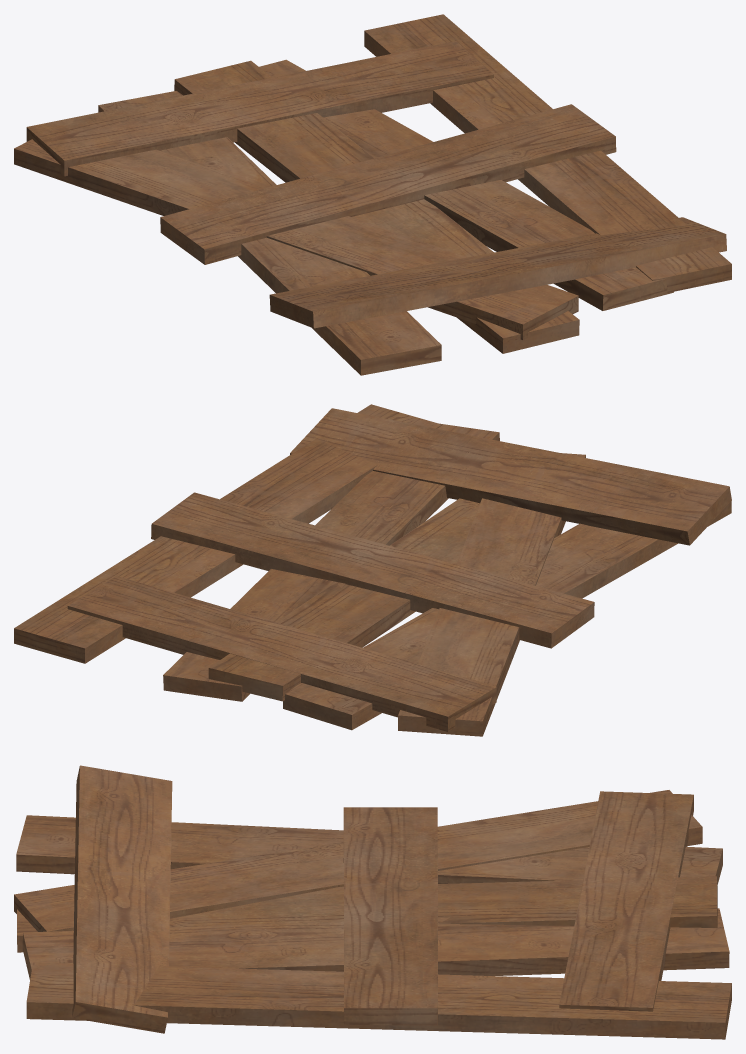
File: départ_rudimentaire.glb
3 renders of one model, top to bottom at view 1: azimuth 30°, elevation 25°; view 2: azimuth 150°, elevation 25°; view 3: azimuth 270°, elevation 25°, orthographic. The views are drawn at different scales.
Parts seen in each view (by area): view 1: Cube.007__0, Cube.006__0, Cube.004__0, Cube.001__0, Cube.005__0, Cube.002__0, Cube__0, Cube.003__0; view 2: Cube.005__0, Cube.007__0, Cube.006__0, Cube.001__0, Cube.004__0, Cube__0, Cube.002__0, Cube.003__0; view 3: Cube.001__0, Cube.005__0, Cube.006__0, Cube.007__0, Cube__0, Cube.004__0, Cube.003__0, Cube.002__0.
Boxes of the visible parts, bbox=[...] form: Cube.007__0: bbox=[160, 104, 616, 264]; Cube.006__0: bbox=[26, 41, 493, 176]; Cube.004__0: bbox=[14, 139, 578, 339]; Cube.001__0: bbox=[364, 14, 731, 292]; Cube.005__0: bbox=[269, 217, 726, 328]; Cube.002__0: bbox=[174, 60, 579, 353]; Cube__0: bbox=[259, 59, 673, 310]; Cube.003__0: bbox=[98, 91, 441, 375]; Cube.005__0: bbox=[290, 408, 731, 545]; Cube.007__0: bbox=[151, 492, 594, 648]; Cube.006__0: bbox=[67, 576, 496, 731]; Cube.001__0: bbox=[14, 404, 441, 663]; Cube.004__0: bbox=[398, 453, 585, 736]; Cube__0: bbox=[163, 423, 499, 701]; Cube.002__0: bbox=[208, 498, 479, 701]; Cube.003__0: bbox=[283, 501, 731, 730]; Cube.001__0: bbox=[26, 962, 731, 1039]; Cube.005__0: bbox=[72, 765, 172, 1033]; Cube.006__0: bbox=[559, 791, 693, 1011]; Cube.007__0: bbox=[343, 807, 437, 1025]; Cube__0: bbox=[22, 908, 729, 979]; Cube.004__0: bbox=[14, 790, 702, 931]; Cube.003__0: bbox=[16, 815, 722, 885]; Cube.002__0: bbox=[17, 876, 717, 952].
Size of the model in its own units: 2.34 by 0.2944 by 2.99.
Materials: 1 (1 with a texture image).
